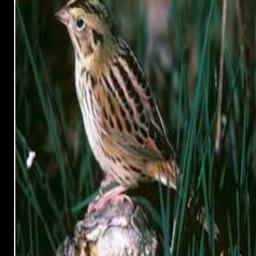Sparrow: (54, 0, 244, 256)
